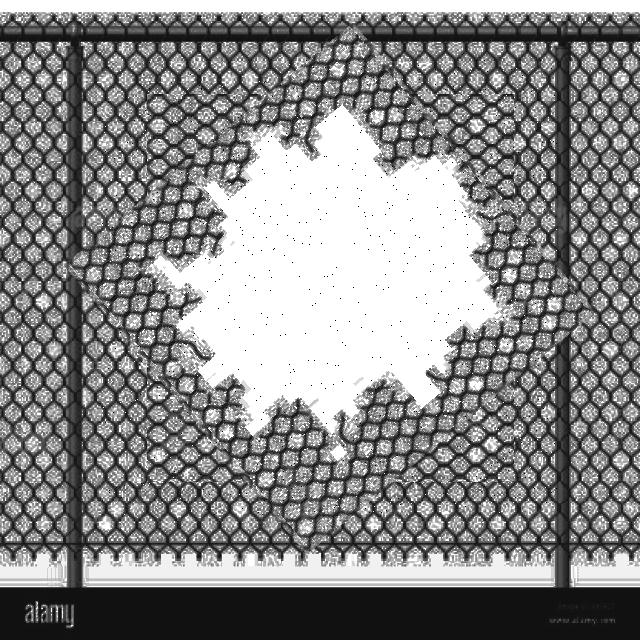anomaly-fence: (102, 60, 558, 516)
